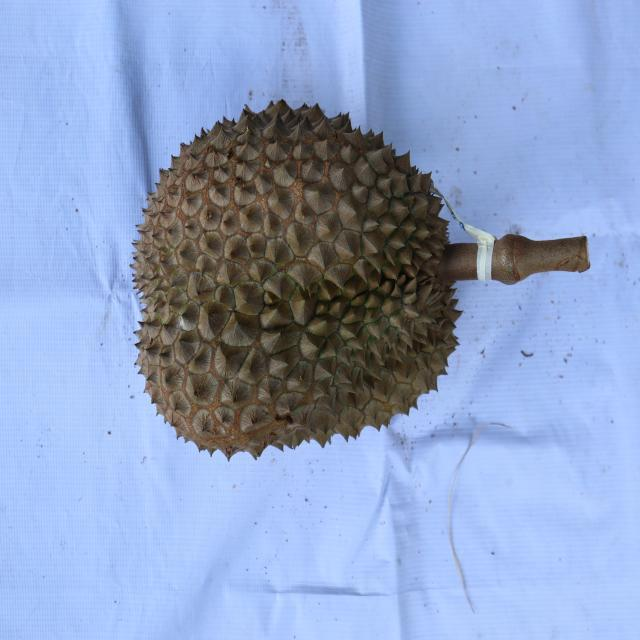mature: (124, 97, 462, 461)
